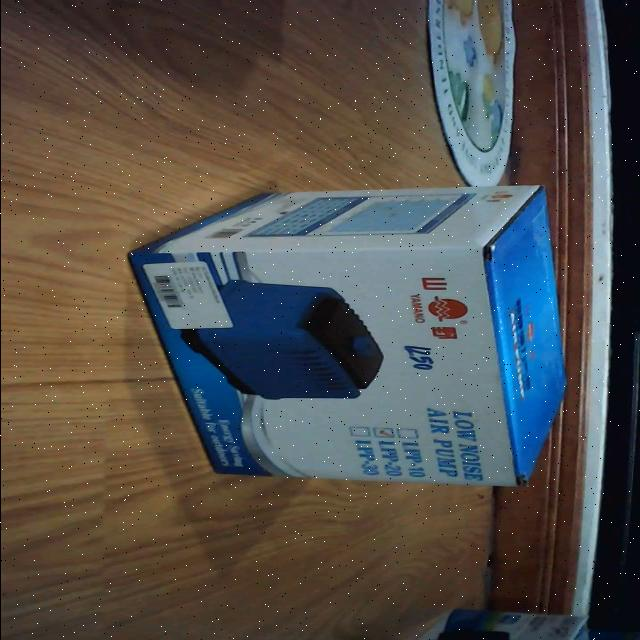YAMANO_LPP_20: (116, 178, 598, 508)
